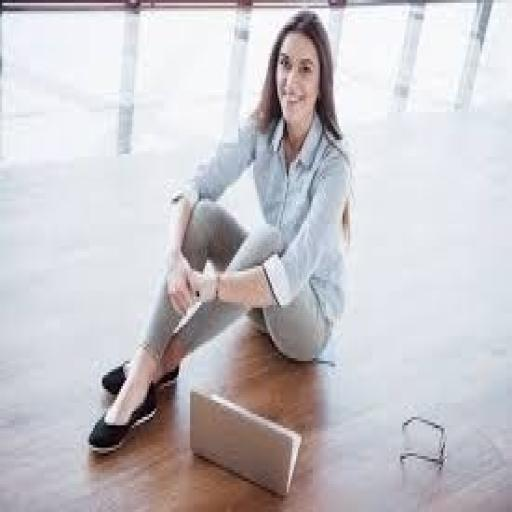using_laptop: (186, 383, 302, 498)
